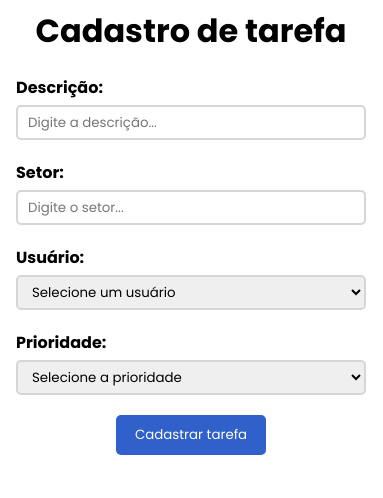
Test: CadTarefa - testes completos › Erro se usuário não estiver na lista
Type "Descrição válida" into the field labelled "Descrição:" at coordinates (191, 122), box [16,105,366,140]
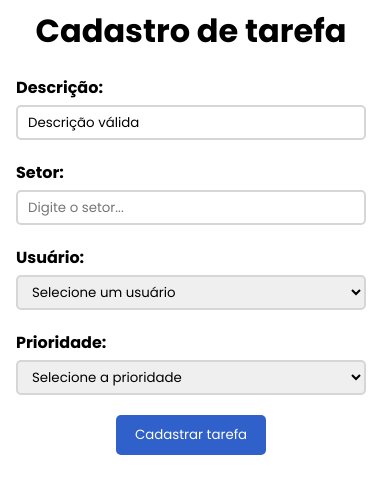
Type "TI" into the field labelled "Setor:" at coordinates (191, 208), box [16,190,366,225]
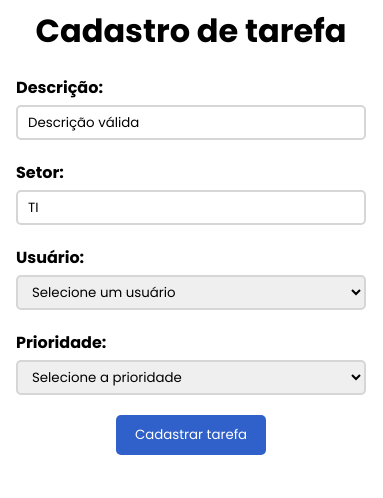
Select "Inexistente" in the dropdown labelled "Usuário:" at coordinates (191, 292), box [16,275,366,310]
Select "Alta" in the dropdown labelled "Prioridade:" at coordinates (191, 378), box [16,360,366,395]
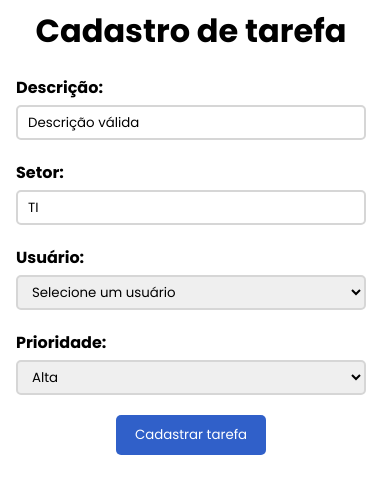
Click the button "Cadastrar tarefa" at coordinates (191, 435), box [116,415,266,455]
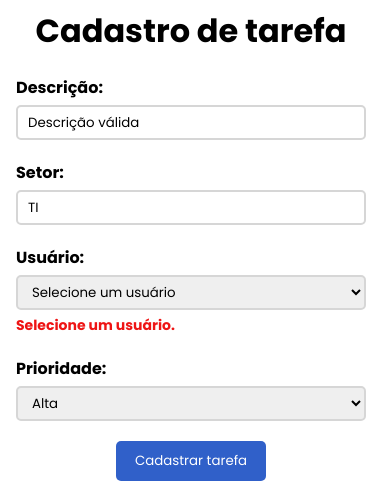
Now the text "Selecione um usuário." is shown, box [16,315,175,335]
